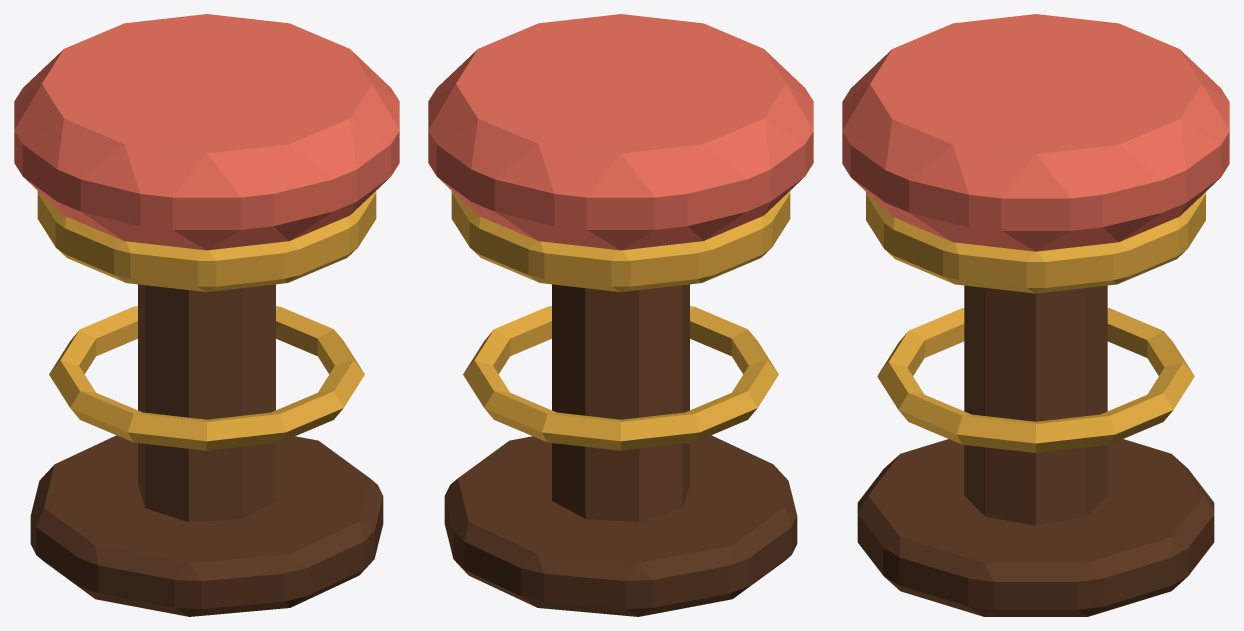
File: slot_stool.glb
3 renders of one model, left to right at view 1: azimuth 30°, elevation 25°; view 2: azimuth 150°, elevation 25°; view 3: azimuth 270°, elevation 25°, orthographic.
Visible parts, largest first — view 1: slot_stool; view 2: slot_stool; view 3: slot_stool.
Boxes of the visible parts, bbox=[...] form: slot_stool: bbox=[14, 14, 399, 616]; slot_stool: bbox=[428, 14, 813, 616]; slot_stool: bbox=[842, 14, 1229, 616].
Size of the model in its own units: 0.3245 by 0.43 by 0.3245.
